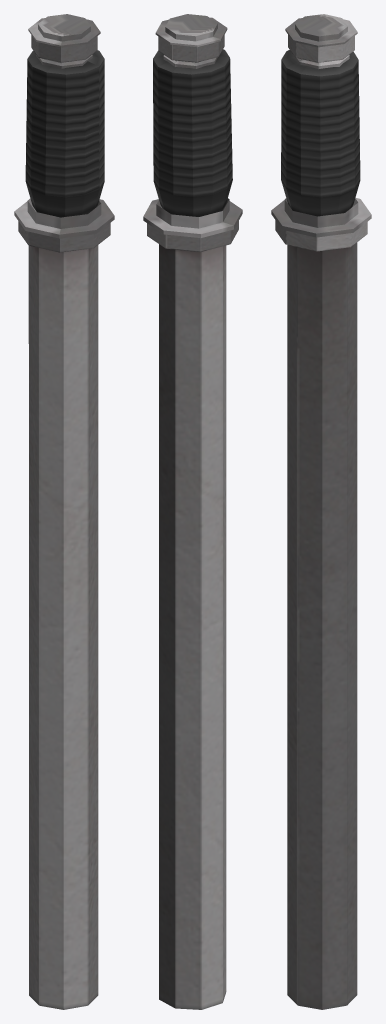
File: substation_ht_1005_08.obj
3 renders of one model, left to right at view 1: azimuth 90°, elevation 25°; view 2: azimuth 150°, elevation 25°; view 3: azimuth 270°, elevation 25°, orthographic.
Parts seen in each view (by area): view 1: substation_ht_1005_08; view 2: substation_ht_1005_08; view 3: substation_ht_1005_08.
Boxes of the visible parts, left/top/right/bottom form: substation_ht_1005_08: left=14, top=14, right=114, bottom=1009; substation_ht_1005_08: left=143, top=14, right=242, bottom=1009; substation_ht_1005_08: left=271, top=14, right=371, bottom=1009.
Size of the model in its own units: 2.56 by 27.37 by 2.56.
Materials: 2 (2 with a texture image).
